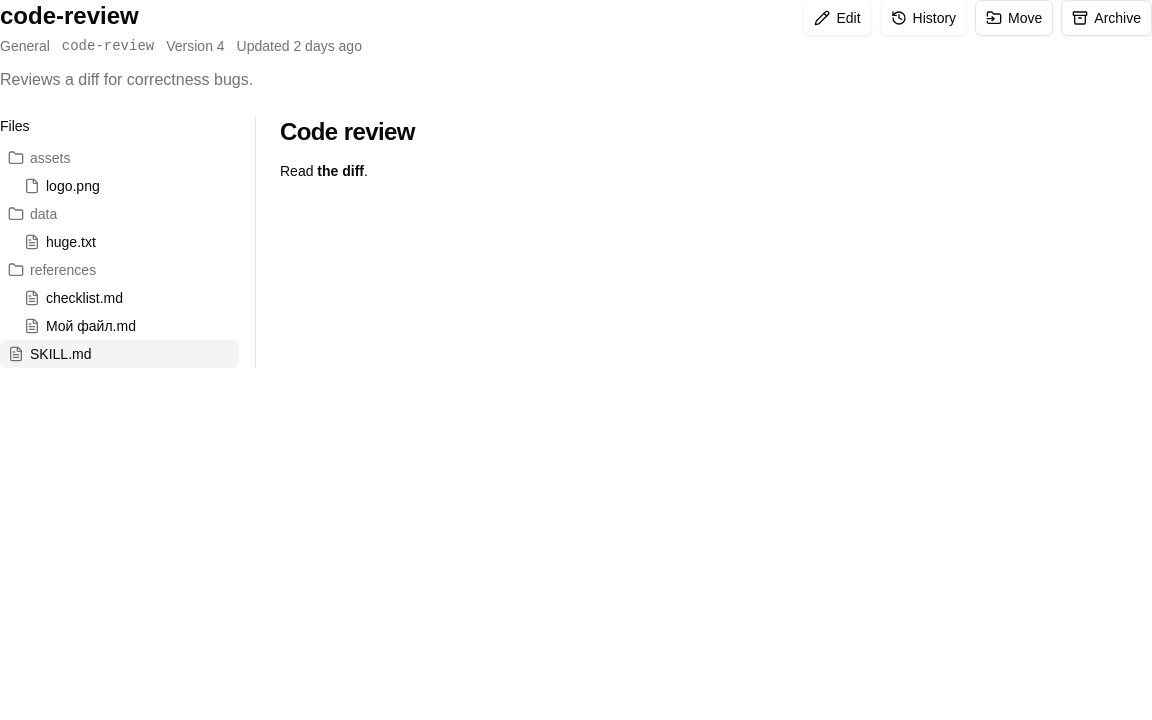
Test: skill page › archiving asks for confirmation, then shows the badge and a toast
Click the button "Archive". click: (1107, 18)
box: [1061,0,1151,36]
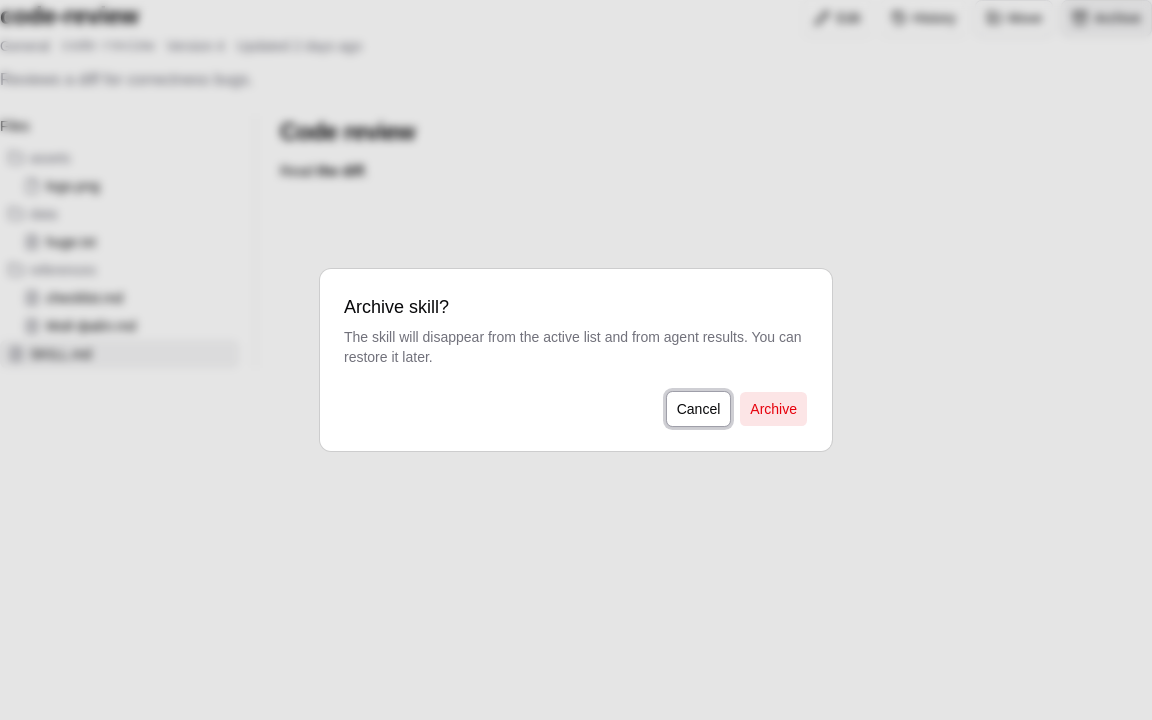
Expected: the heading "Archive skill?" is shown, [344,293,449,321]
Click the button "Cancel". click: (698, 409)
box: [666,391,731,427]
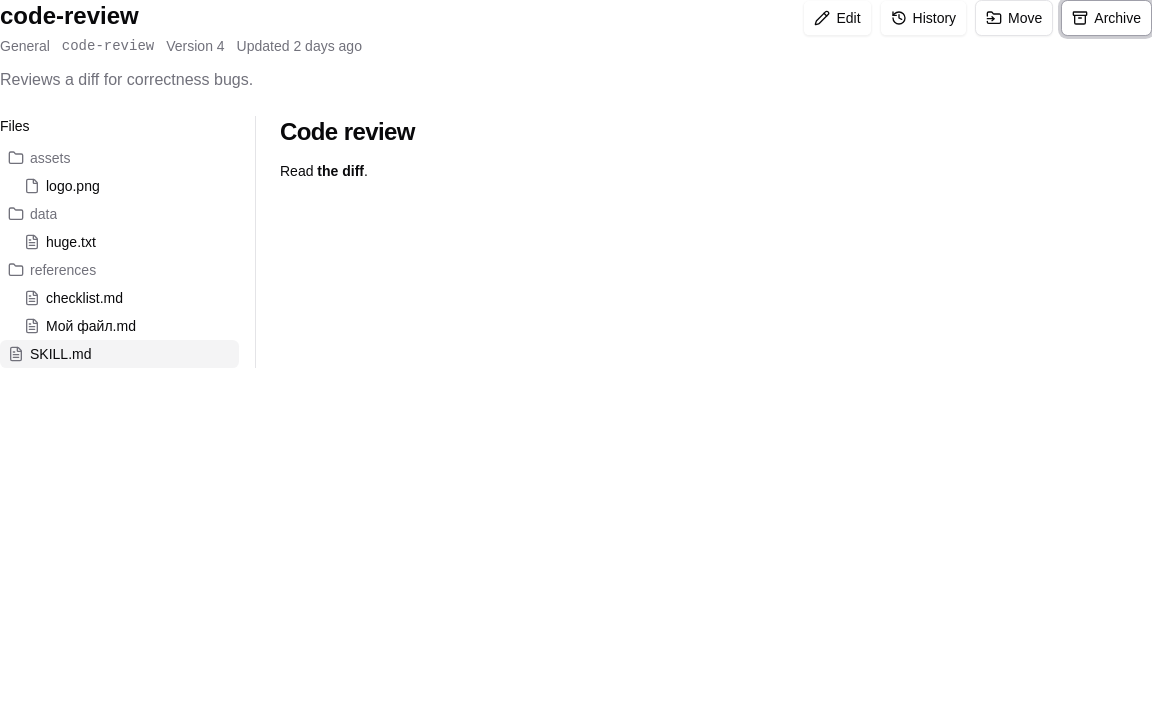
Expected: the dialog is gone
Click the button "Archive". click: (1107, 18)
box: [1061,0,1151,36]
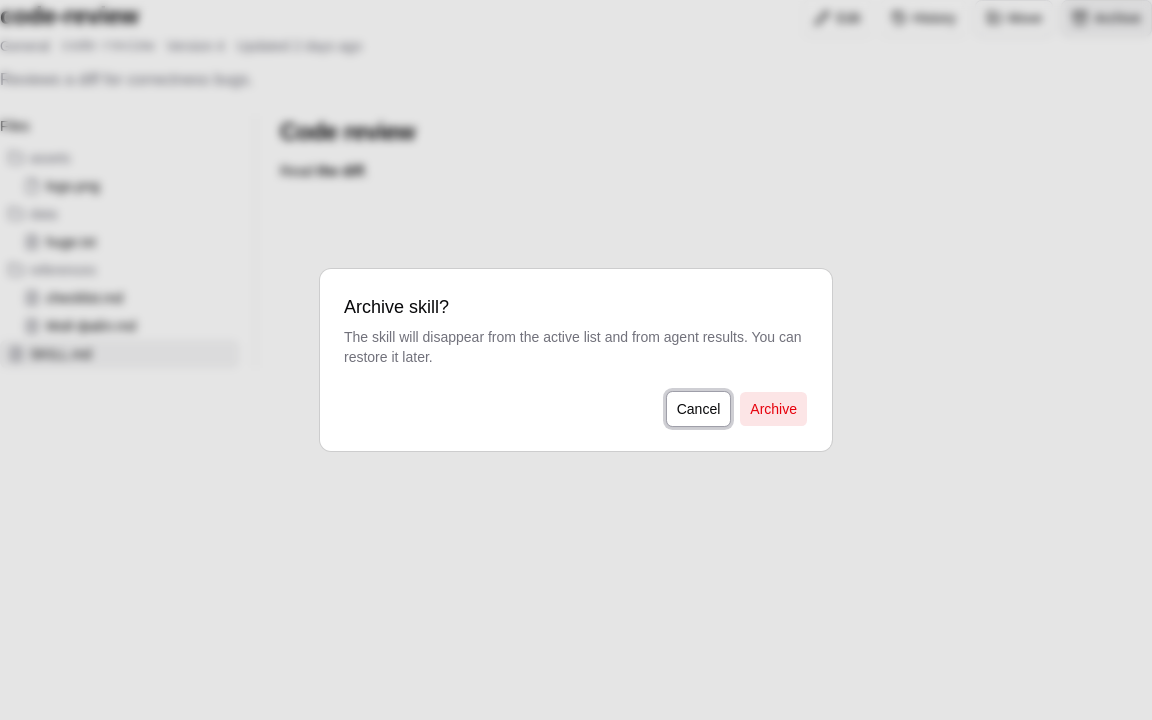
Click the button "Archive". click: (774, 409)
box: [739,391,808,427]
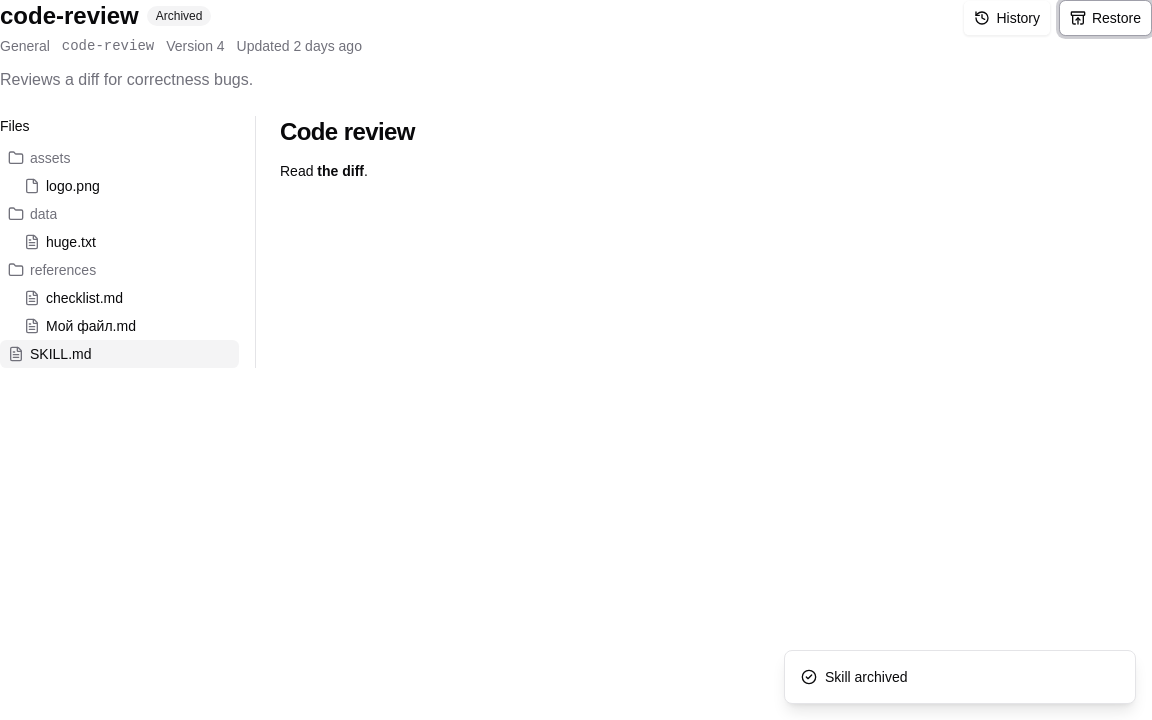
Expected: the text "Archived" is shown, [147,6,211,26]
Expected: the heading "Skill archived" is shown, [825,667,908,687]
Expected: the dialog is gone
